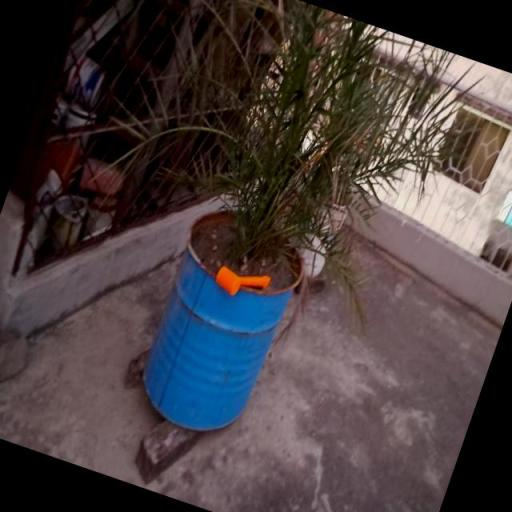mallet: (211, 258, 273, 308)
